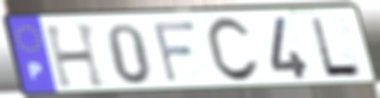0: (104, 23, 155, 87)
4: (268, 15, 311, 82)
C: (204, 15, 263, 86)
F: (150, 19, 199, 86)
H: (42, 21, 110, 90)
L: (308, 15, 366, 78)
